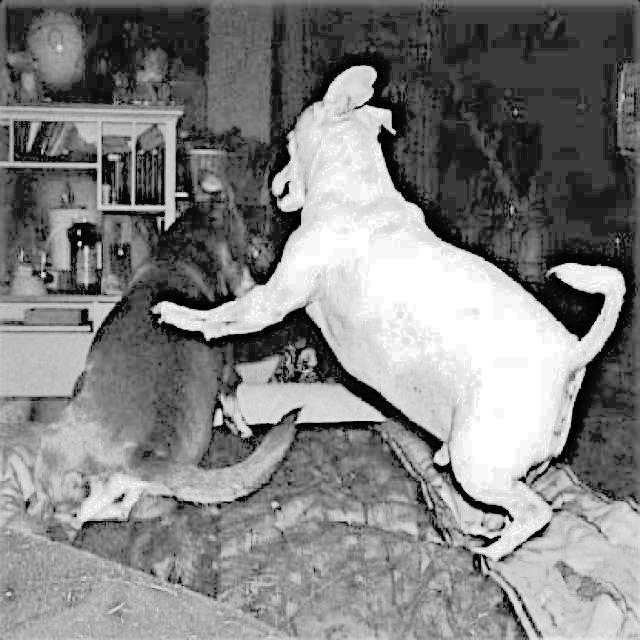Dog: (153, 59, 630, 573)
